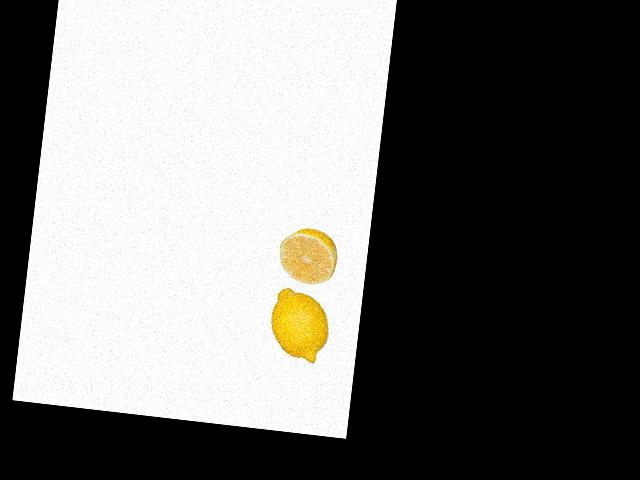lemon: (268, 284, 331, 367)
